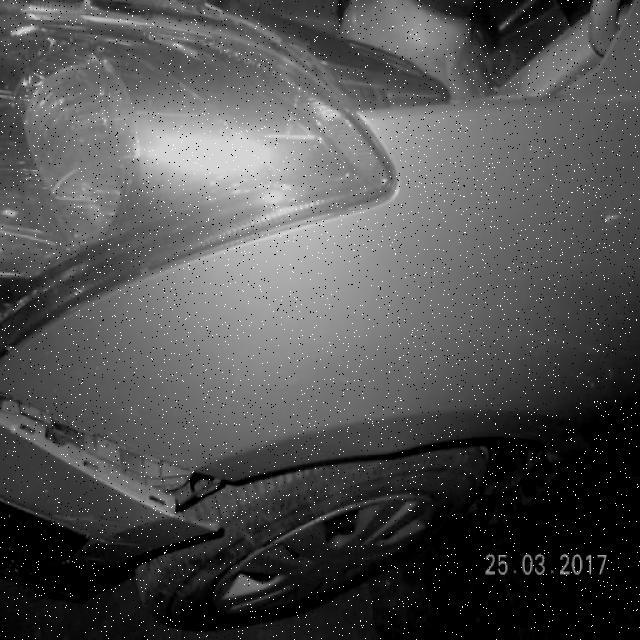car damage: (0, 0, 432, 176)
